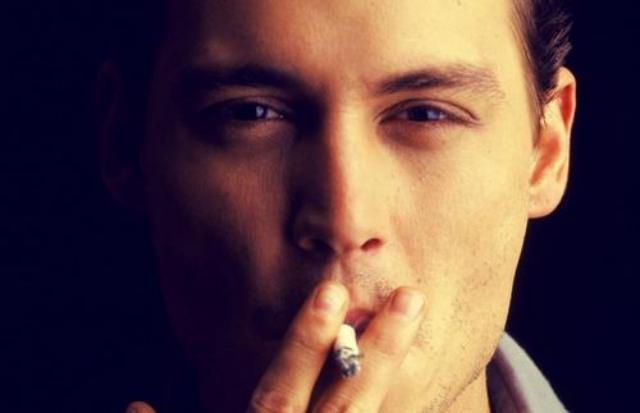SafeDriving: (181, 72, 314, 155), (361, 76, 498, 150)
Smoking: (328, 323, 364, 383)
